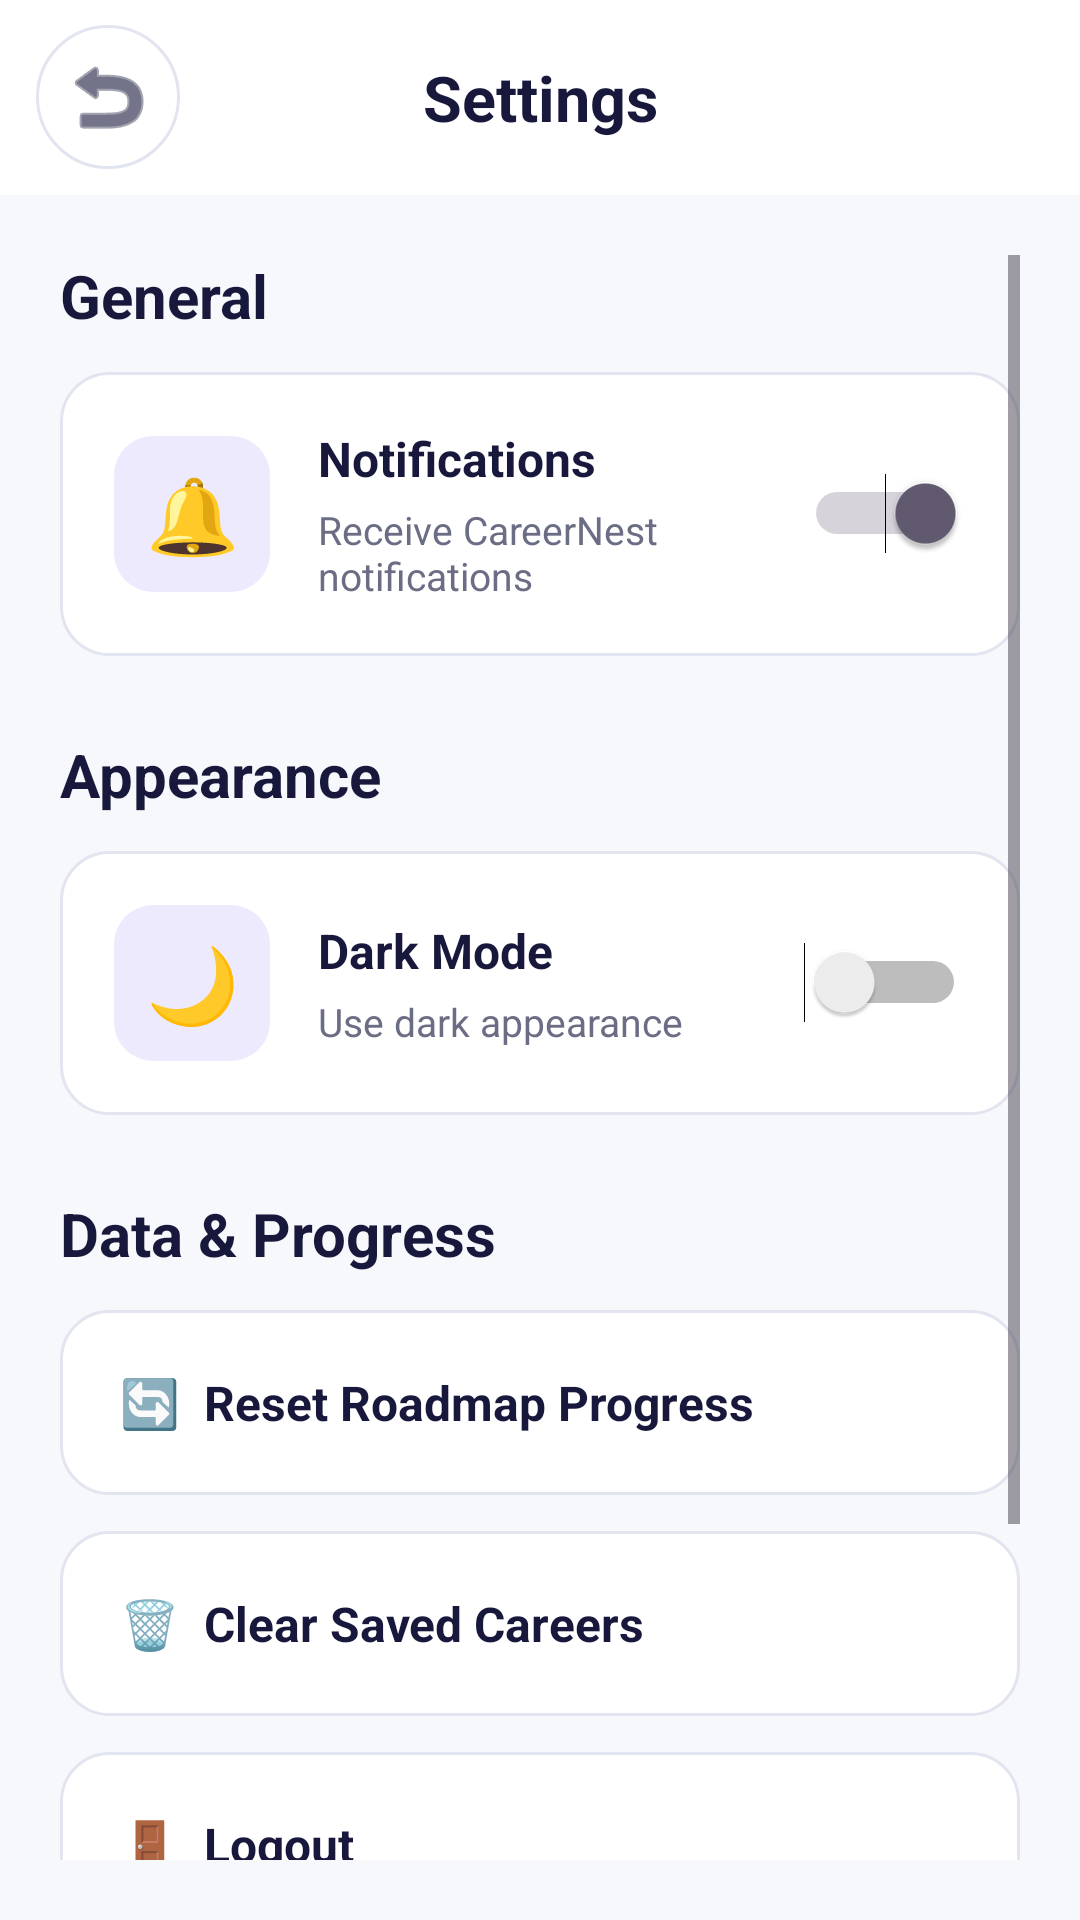

Named icons in this screenshot (1080*1920) and their centers, [x,y]:
Back: [108,97]
